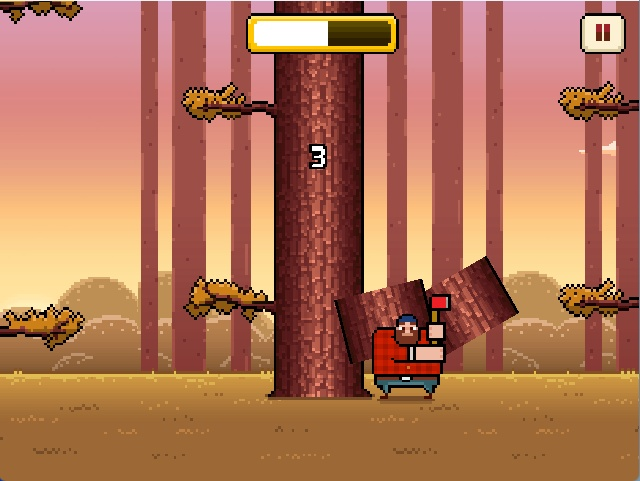left_obs: (177, 266, 278, 336), (174, 76, 281, 136)
timberman: (354, 284, 464, 415)
